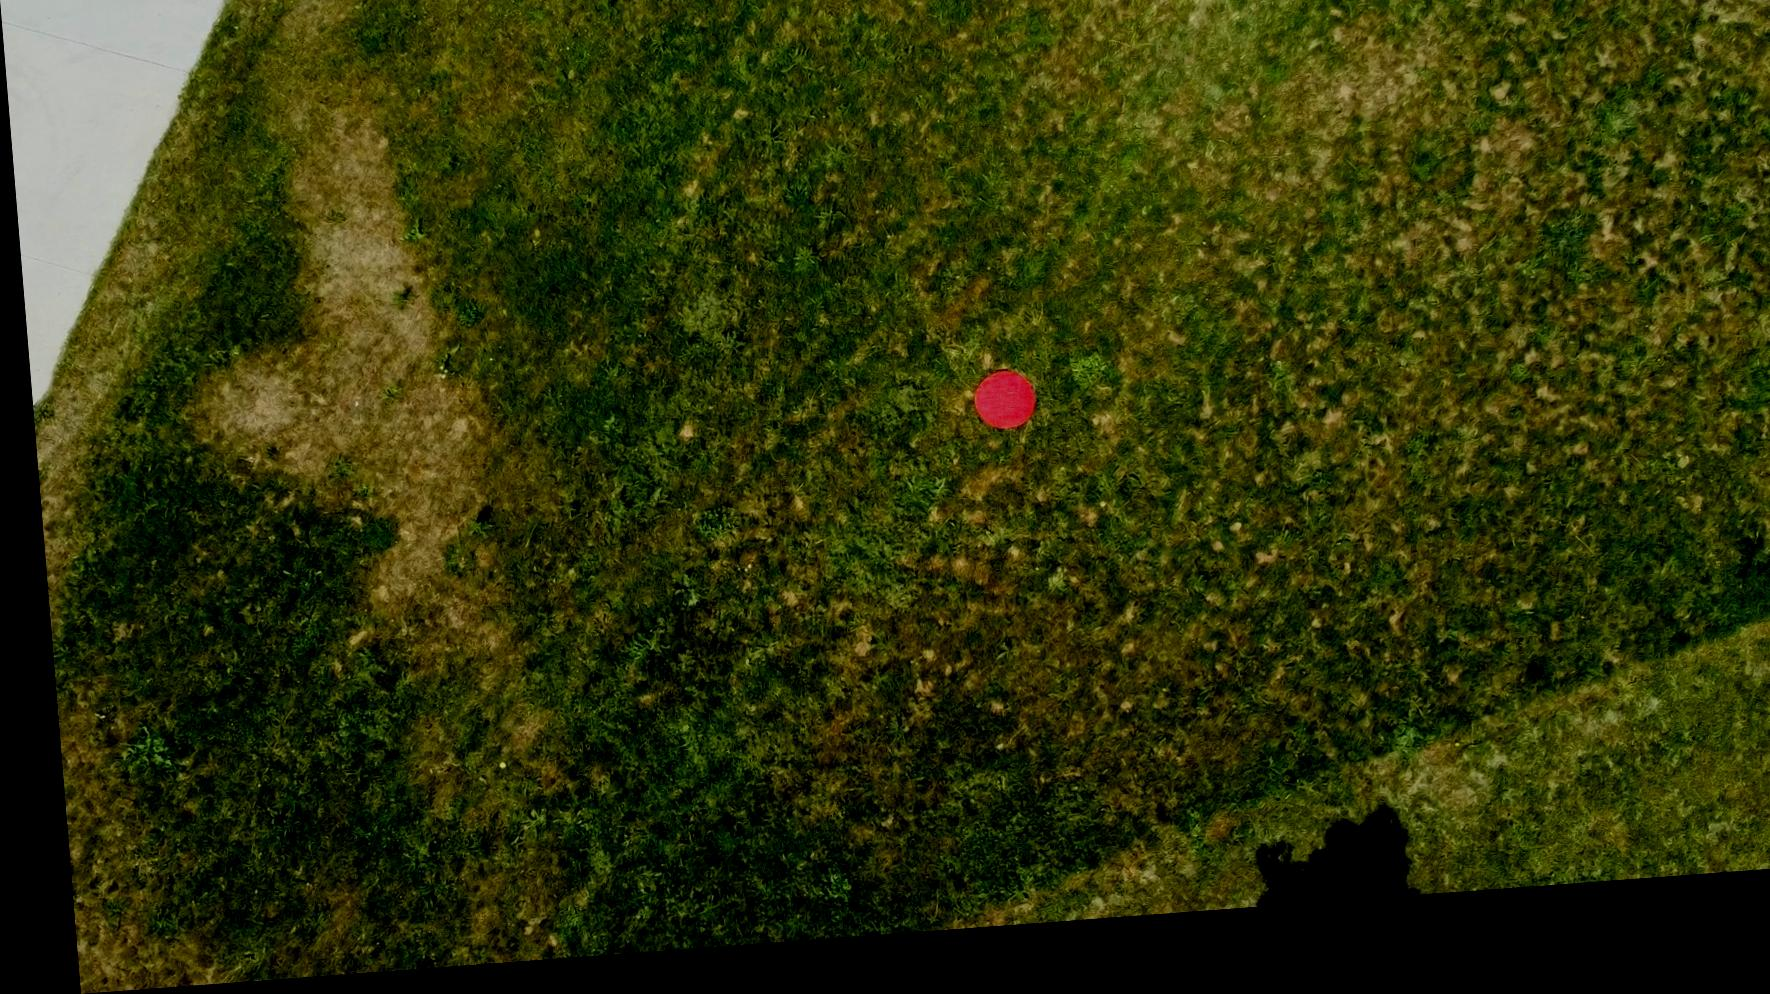Red: (963, 380, 1032, 451)
